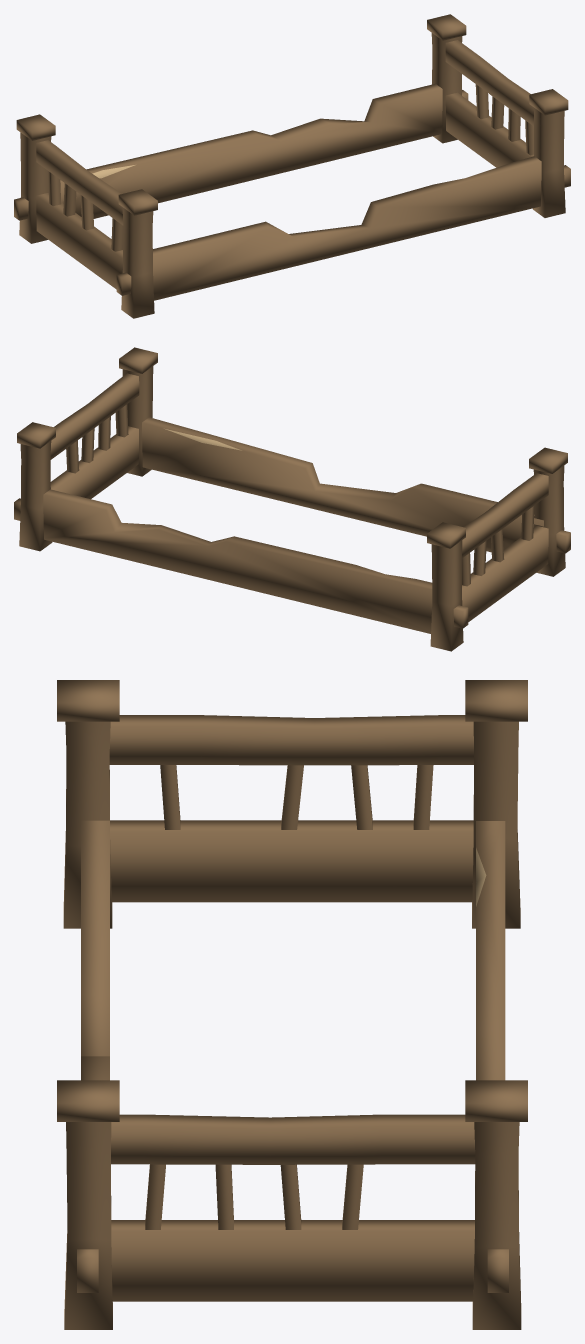
Rendered from rpgpp_av_bed_01a.gltf.
3 renders of one model, top to bottom at view 1: azimuth 30°, elevation 25°; view 2: azimuth 150°, elevation 25°; view 3: azimuth 270°, elevation 25°, orthographic. The views are drawn at different scales.
Visible parts, largest first — view 1: rpgpp_av_bed_01a; view 2: rpgpp_av_bed_01a; view 3: rpgpp_av_bed_01a.
Part boxes in pixels (x1,y1,x2,y2): rpgpp_av_bed_01a: (14,14,570,318); rpgpp_av_bed_01a: (14,347,570,651); rpgpp_av_bed_01a: (57,680,527,1329).
Size of the model in its own units: 0.0274 by 0.00664 by 0.0125.
Materials: 1 (1 with a texture image).
